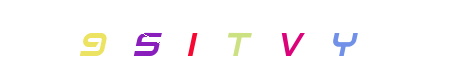9: (102, 0, 182, 80)
I: (191, 0, 271, 80)
S: (107, 0, 187, 80)
T: (191, 0, 271, 80)
V: (215, 0, 295, 80)
Y: (304, 0, 384, 80)
